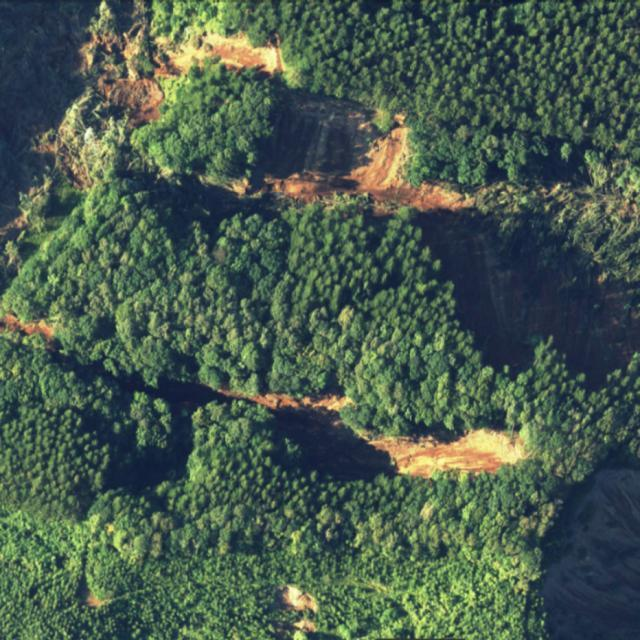landslide: (220, 84, 472, 214), (40, 32, 282, 159), (219, 387, 525, 478), (0, 312, 54, 345)
